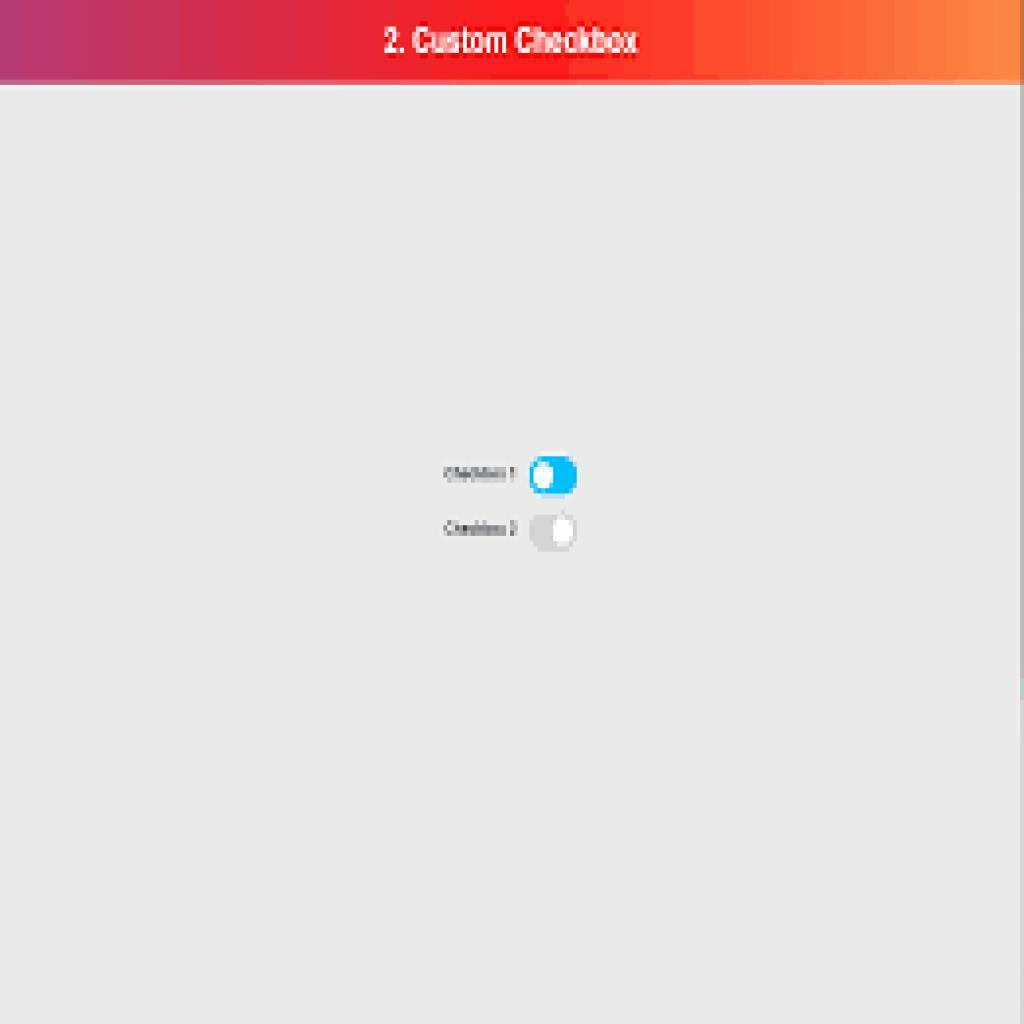switch: (528, 508, 587, 562), (529, 447, 579, 505)
